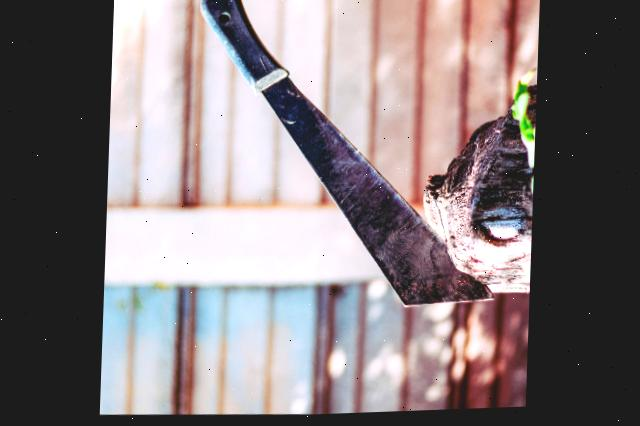long knife: (174, 0, 518, 360)
